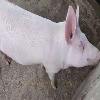heo: (44, 4, 98, 69)
